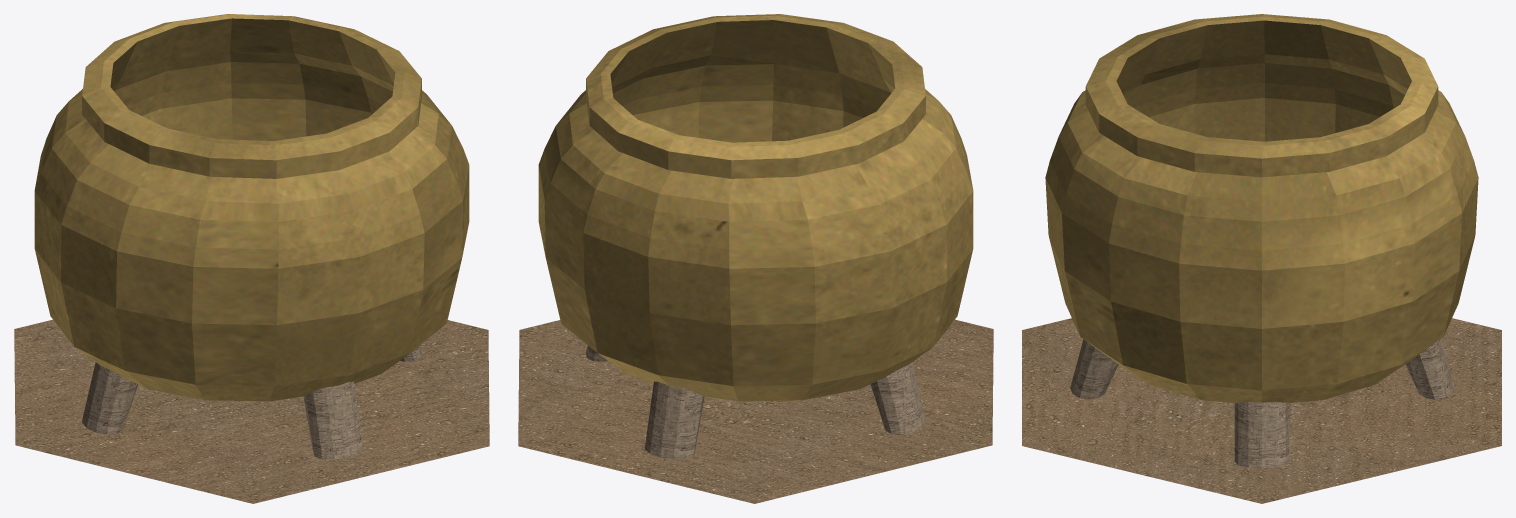
The model's file is farm_house_GEO_01.fbx.
3 views of the same model, side by side, from view 1: azimuth 30°, elevation 25°; view 2: azimuth 150°, elevation 25°; view 3: azimuth 270°, elevation 25° (orthographic).
Parts seen in each view (by area): view 1: fungus_HQ_GEO_01; view 2: fungus_HQ_GEO_01; view 3: fungus_HQ_GEO_01.
Part boxes in pixels (x1,y1,x2,y2): fungus_HQ_GEO_01: (14, 14, 489, 503); fungus_HQ_GEO_01: (518, 14, 993, 503); fungus_HQ_GEO_01: (1022, 14, 1501, 503).
Bounding box in the file's own units: 2 × 1.24 × 1.75.
3 materials, 3 textured.
